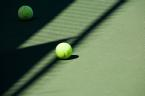tennis ball: (55, 42, 75, 60), (18, 5, 35, 20)
